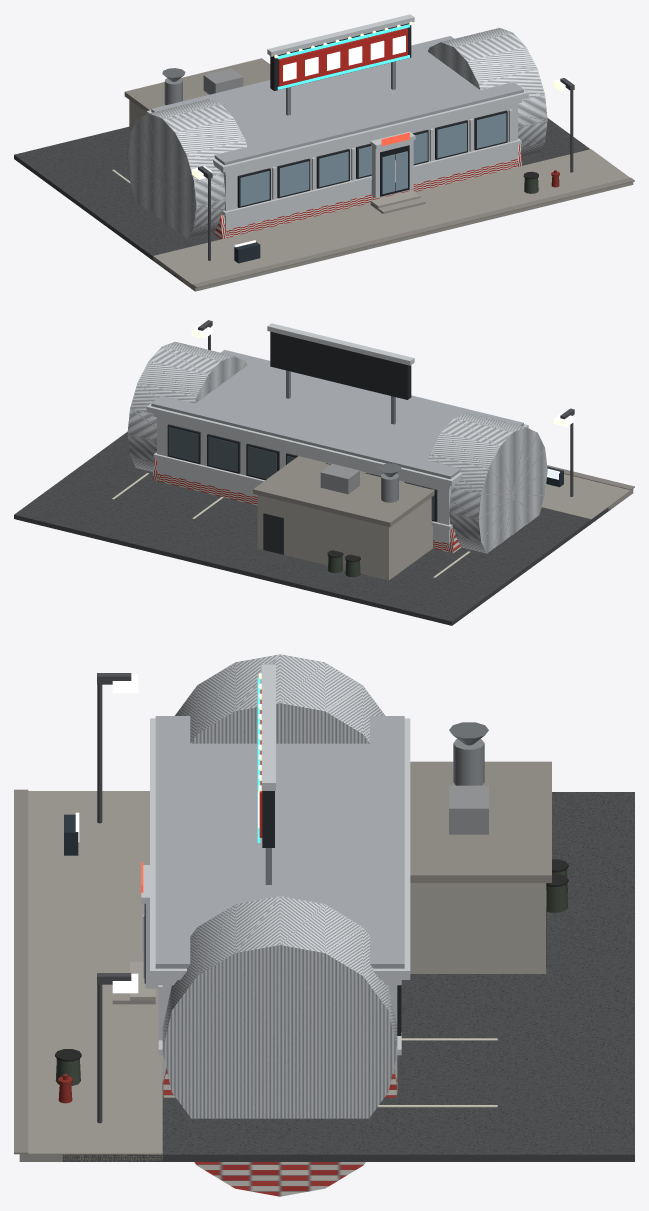
File: jersey_diner.glb
The picture shows the model from 3 angles, top to bottom: view 1: azimuth 30°, elevation 25°; view 2: azimuth 150°, elevation 25°; view 3: azimuth 270°, elevation 25°; orthographic projection. The views are drawn at different scales.
Bounding box in the file's own units: 30 × 13.45 × 21.7.
5 materials, 5 textured.
